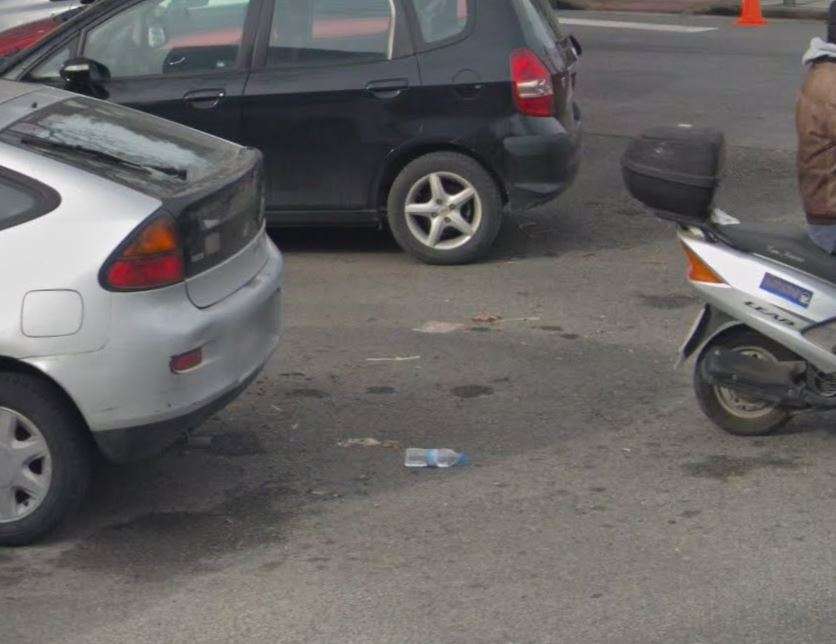trash: (399, 441, 478, 479)
